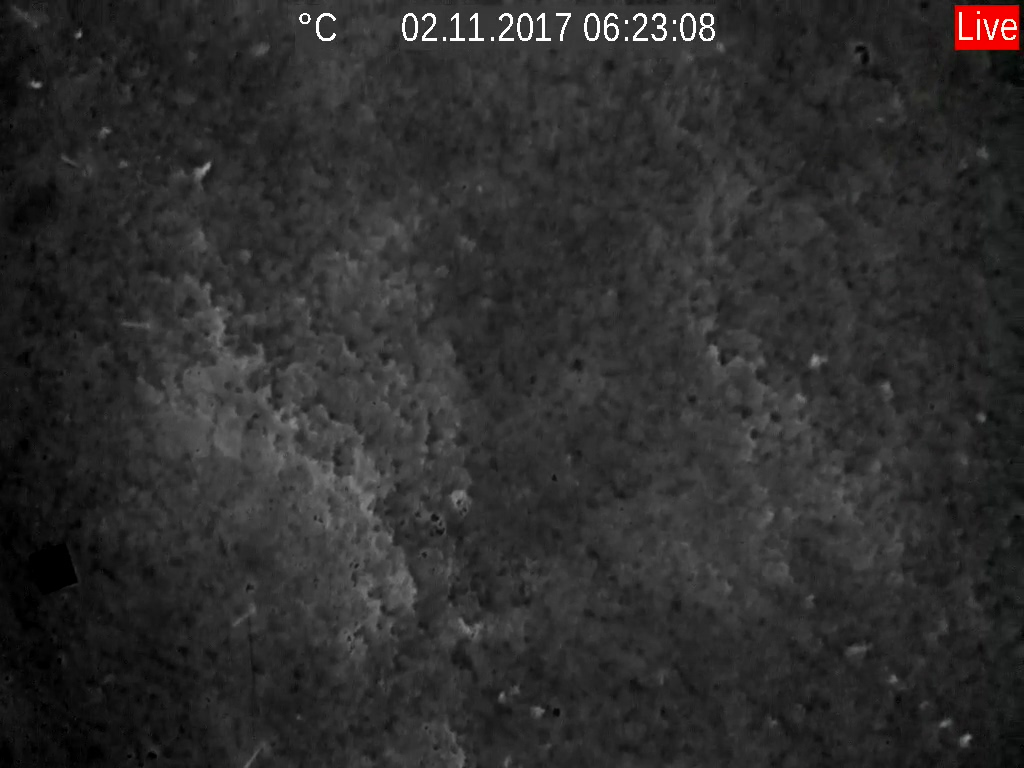warren: (187, 153, 218, 189)
